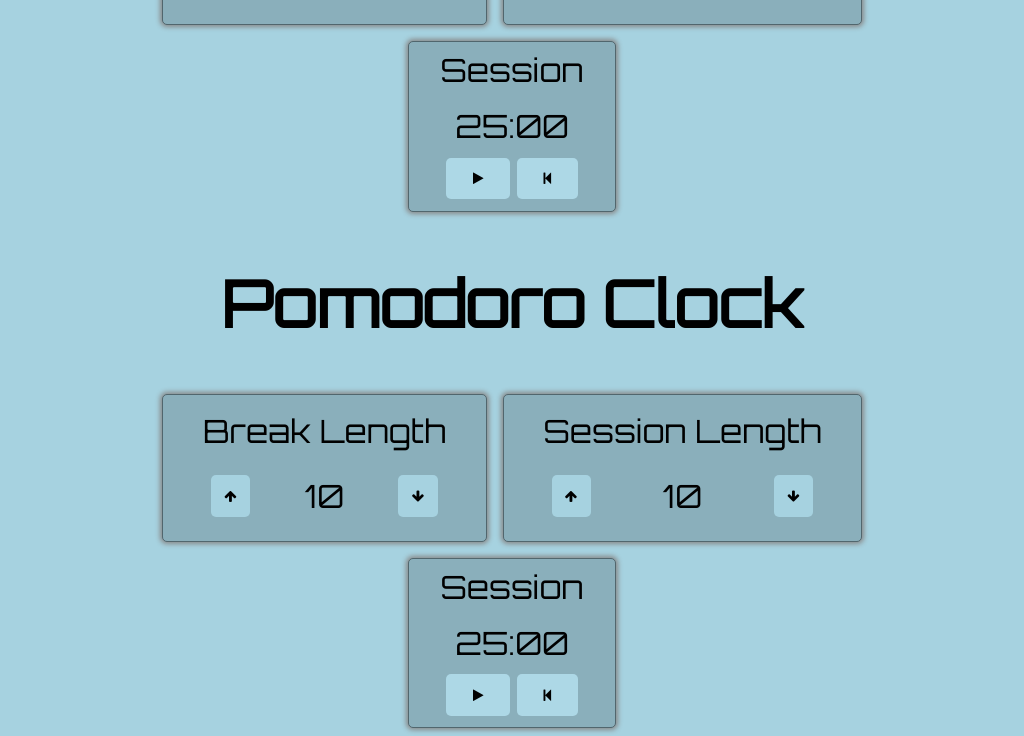
App tests › Should reset values when reset button is clicked
(page scrolled)
Click the button with id "reset" at (547, 695), box x1=517 y1=674 x2=578 y2=716
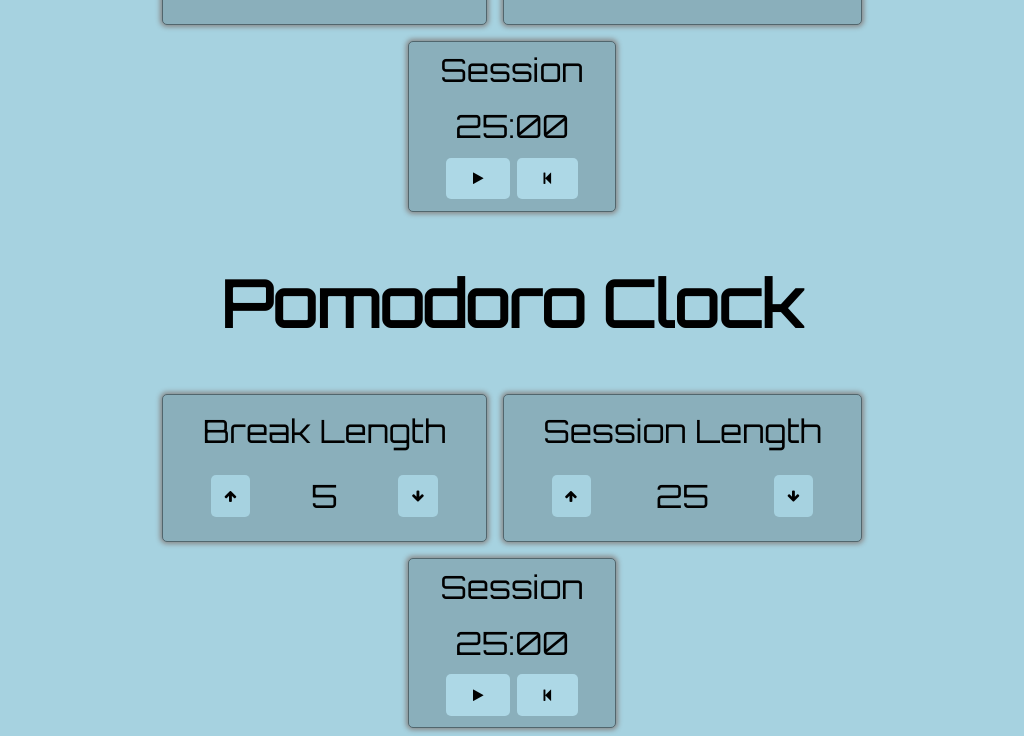
Expected: the text with id "time-left" reads "25:00", x1=455 y1=623 x2=569 y2=663
Expected: the text with id "break-length" reads "5", x1=311 y1=476 x2=338 y2=516
Expected: the text with id "session-length" reads "25", x1=656 y1=476 x2=709 y2=516
